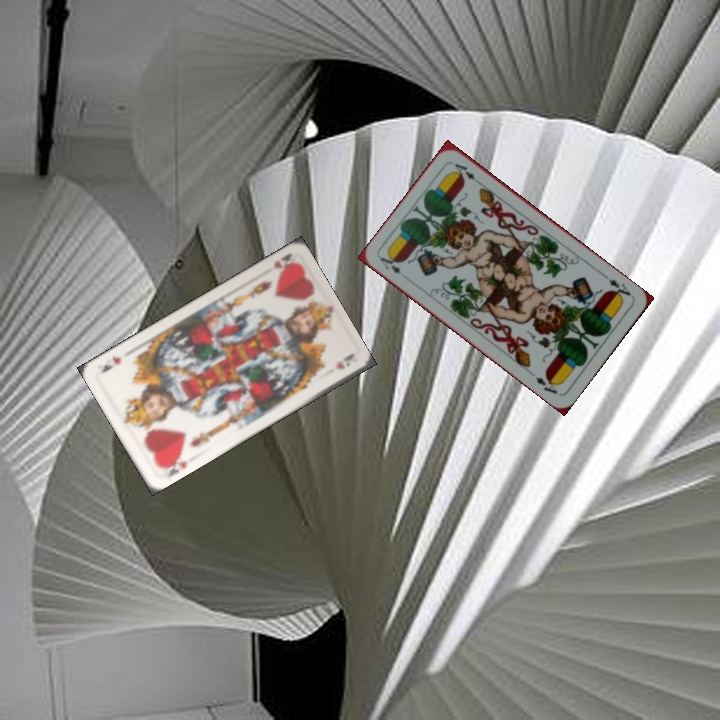EA: (376, 251, 411, 282), (600, 271, 633, 303)
HK: (155, 450, 190, 480), (268, 249, 298, 275)
